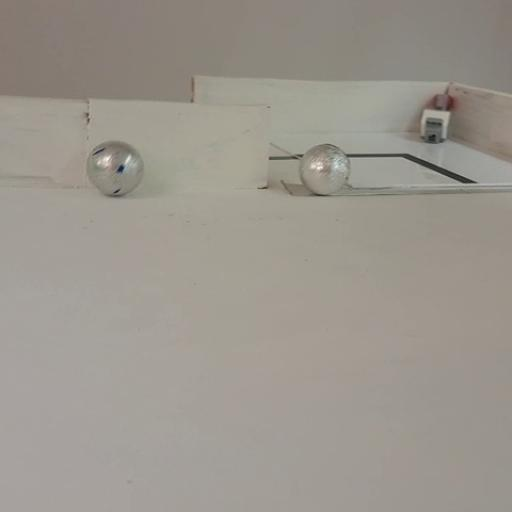alive: (86, 138, 148, 198), (298, 139, 352, 196)
